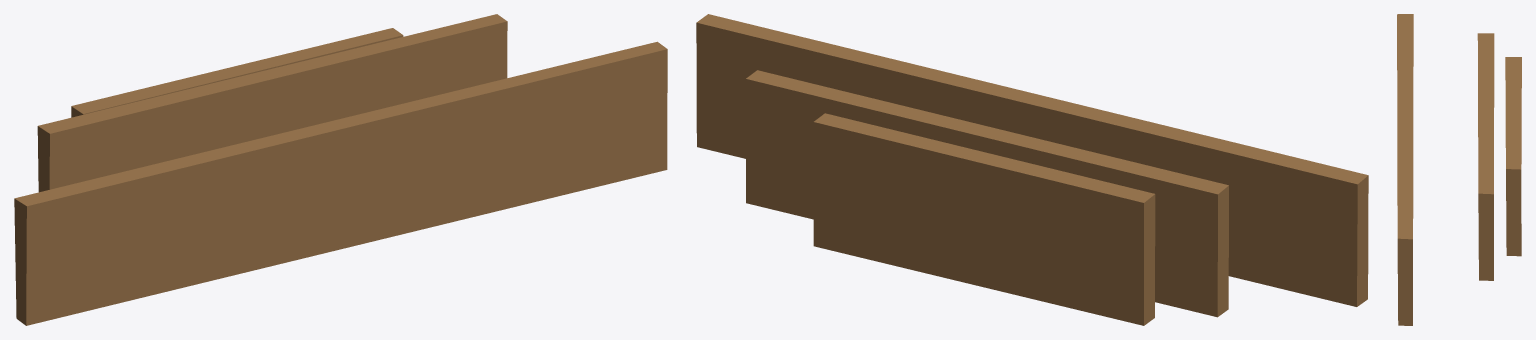
The model's file is planks.glb.
3 views of the same model, side by side, from view 1: azimuth 30°, elevation 25°; view 2: azimuth 150°, elevation 25°; view 3: azimuth 270°, elevation 25° (orthographic). The views are drawn at different scales.
Parts seen in each view (by area): view 1: plank_long, plank_mid, plank_short; view 2: plank_long, plank_short, plank_mid; view 3: plank_long, plank_mid, plank_short.
Boxes of the visible parts, bbox=[...] form: plank_long: bbox=[14, 41, 667, 325]; plank_mid: bbox=[37, 14, 507, 192]; plank_short: bbox=[71, 28, 403, 117]; plank_long: bbox=[696, 14, 1368, 306]; plank_short: bbox=[813, 113, 1155, 325]; plank_mid: bbox=[745, 70, 1228, 317]; plank_long: bbox=[1397, 14, 1413, 325]; plank_mid: bbox=[1477, 33, 1494, 280]; plank_short: bbox=[1505, 57, 1521, 256].
Size of the model in its own units: 1.68 by 0.3333 by 0.3938.
